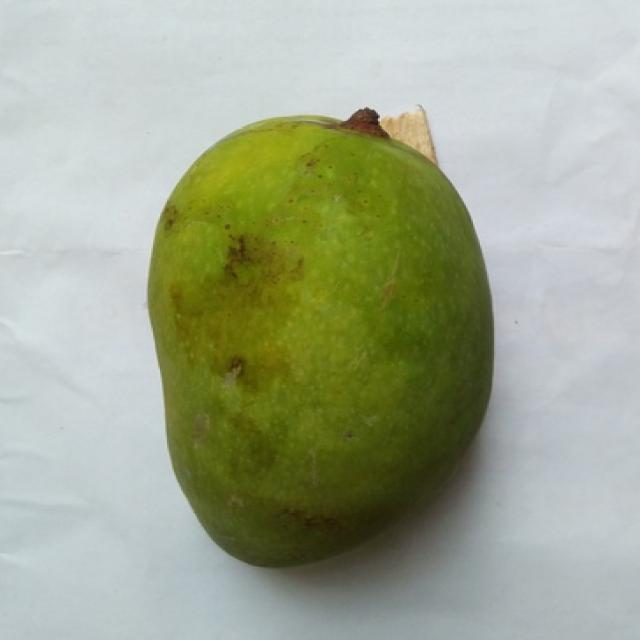Mango: (148, 117, 492, 566)
